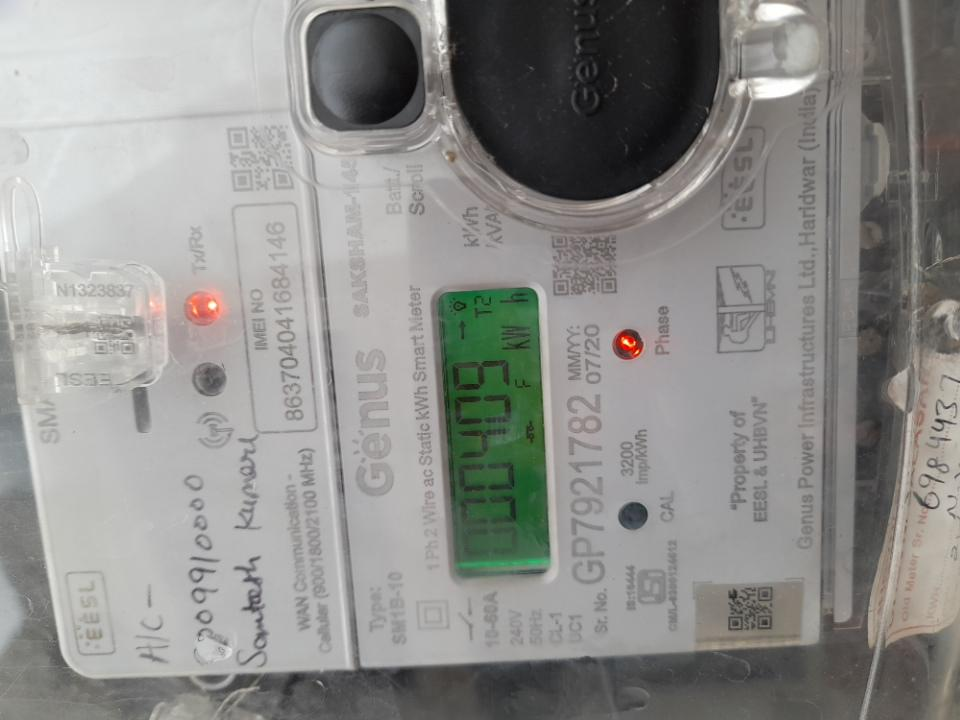.: (488, 372, 574, 401)
1: (394, 336, 437, 386), (212, 346, 262, 388), (303, 341, 345, 389), (260, 344, 301, 393)
5: (344, 337, 389, 390)
:: (432, 334, 481, 385)
